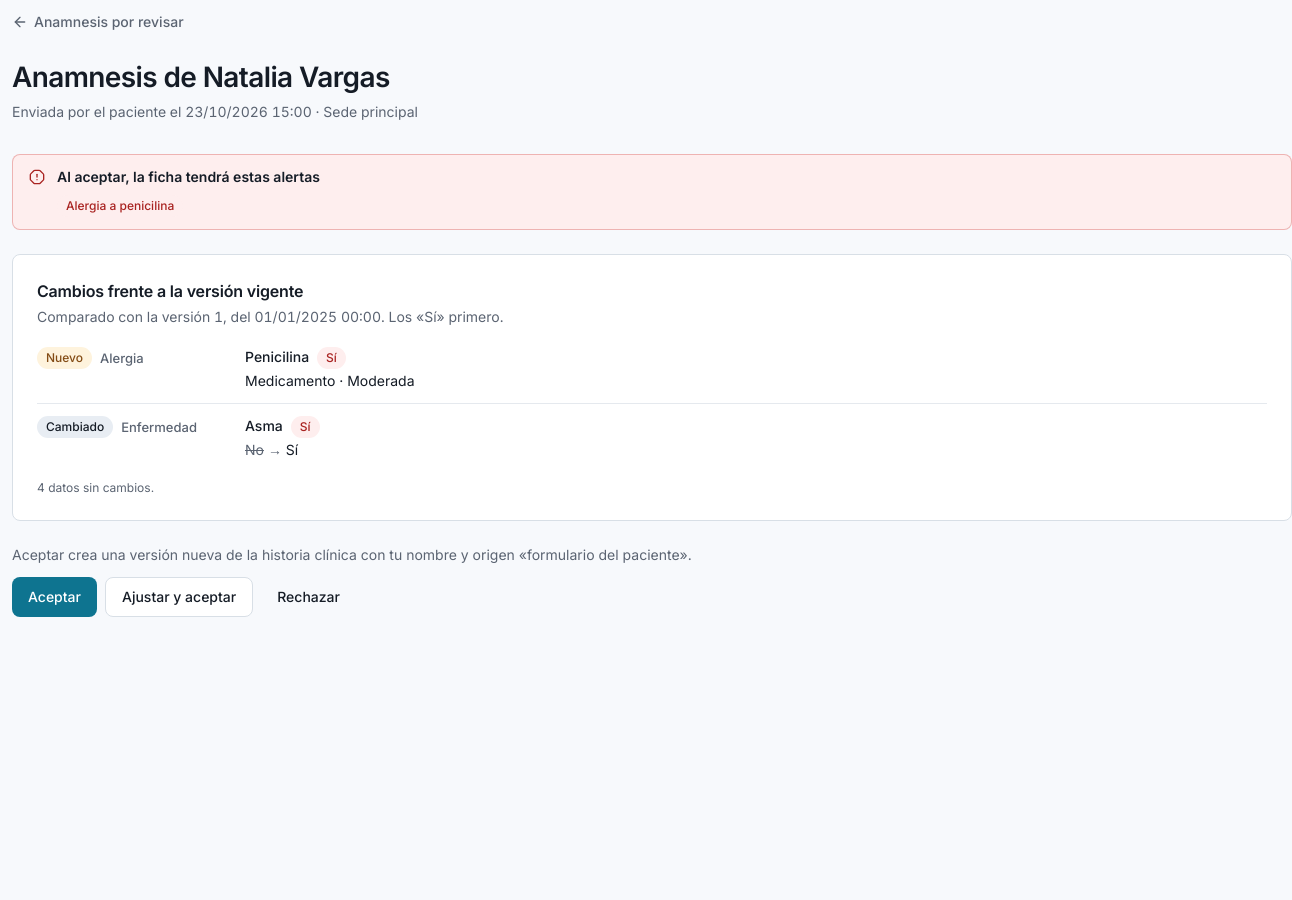
it: Revisión de la anamnesis (DX-099) › pinta las alertas resultantes y las diferencias, y acepta
Expected: the heading "Anamnesis de Natalia Vargas" is shown, [12, 60, 418, 96]
Expected: the text "Alergia a penicilina" is shown, [57, 195, 183, 217]
Click the button "Aceptar".
click(54, 597)  # box [12, 577, 97, 617]
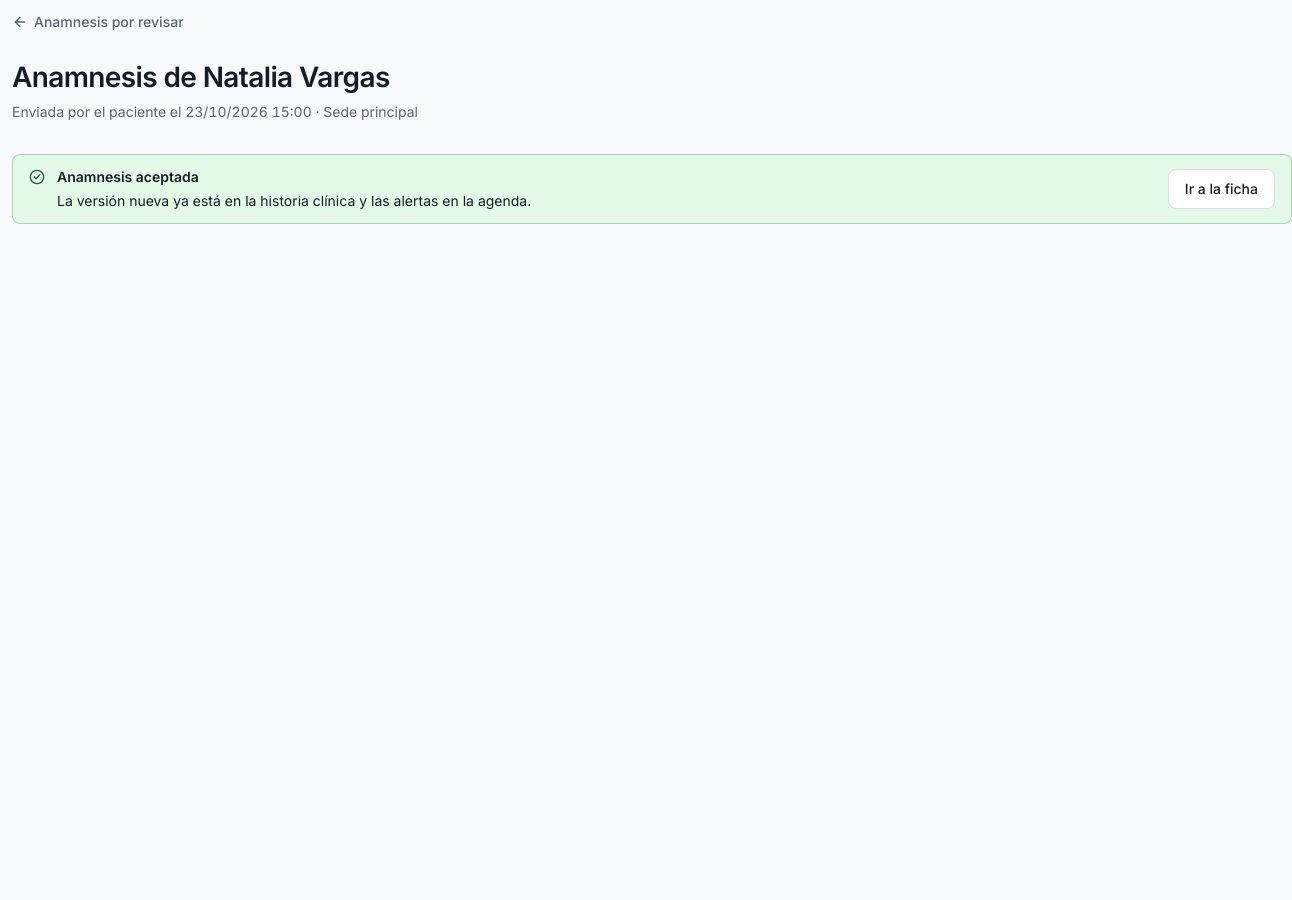
Result: the text "Anamnesis aceptada" is shown at [57, 168, 199, 185]
